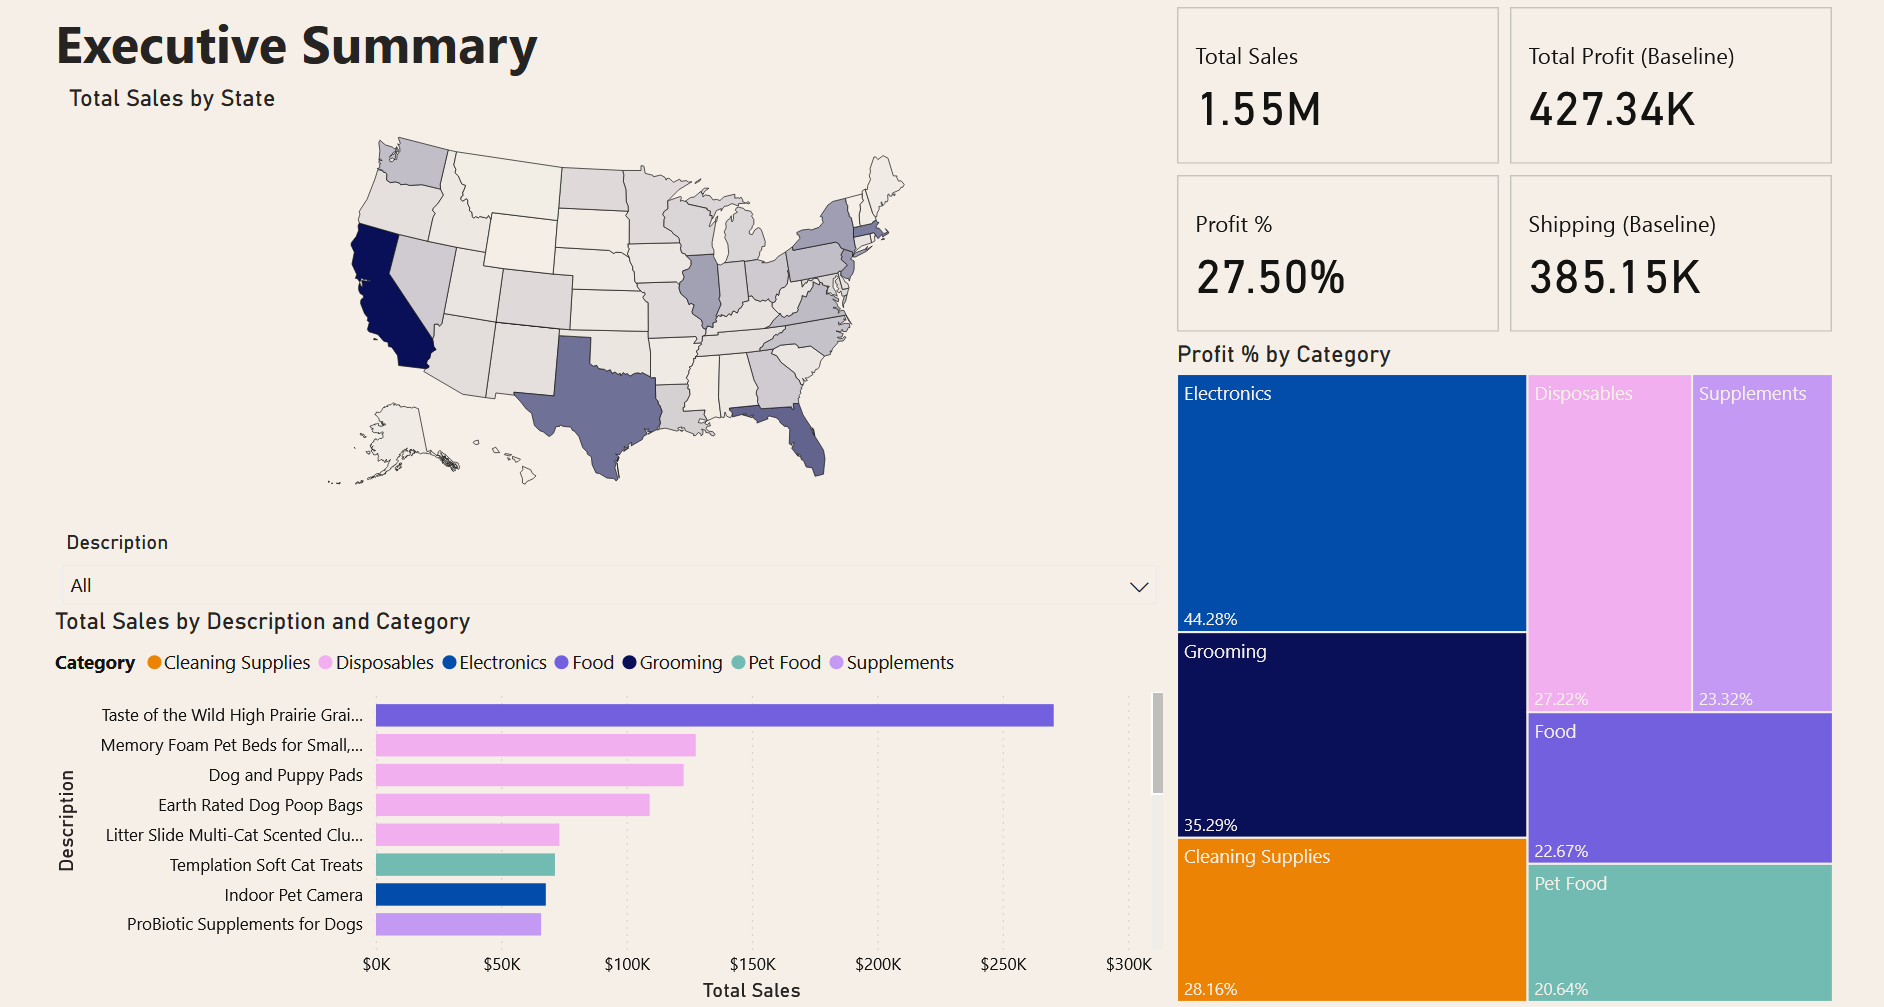

What the dashboard file says about the page in this screenshot:
{"tool":"powerbi","page":{"name":"Executive Summary","canvas":[1280,720],"ordinal":0},"visuals":[{"type":"shapeMap","title":"Total Sales by State","fields":{"Category":["State Mapping.State"],"Value":["Sum(Sales.Sales)"]},"box":[9.8,59.7,791.7,304.3],"z":0},{"type":"cardVisual","fields":{"Data":["Sum(Sales.Sales)","Sum(Sales.Profit (Baseline))","New_Measures.Profit %","Sales.Shipping (Baseline)"]},"box":[801.5,0,478.5,242.7],"z":1000},{"type":"barChart","title":"Total Sales by Description and Category","fields":{"Category":["Products.Description"],"Y":["Sum(Sales.Sales)"],"Series":["Products.Category"]},"box":[0,433.5,801.5,286.7],"z":2000},{"type":"slicer","fields":{"Values":["Products.Description"]},"box":[0,372,802,62],"z":3000},{"type":"treemap","fields":{"Values":["New_Measures.Profit %"],"Group":["Products.Category","Products.Description"]},"box":[801.5,242.7,478.5,477.6],"z":4000},{"type":"textbox","box":[0,0,801,60],"z":5000}]}

Visuals, with their boxes on the page's 1280x720 design canvas (x1, y1, x2, y2). These are canvas units, not pixel positions in the 1884x1007 screenshot, which may show the page scaled, cropped or inside an application window:
"Total Sales by State" shapeMap: 10, 60, 802, 364
cardVisual - Sum(Sales.Sales) x Sum(Sales.Profit (Baseline)): 802, 0, 1280, 243
"Total Sales by Description and Category" barChart: 0, 434, 802, 720
slicer - Products.Description: 0, 372, 802, 434
treemap - New_Measures.Profit % x Products.Category: 802, 243, 1280, 720
textbox: 0, 0, 801, 60
